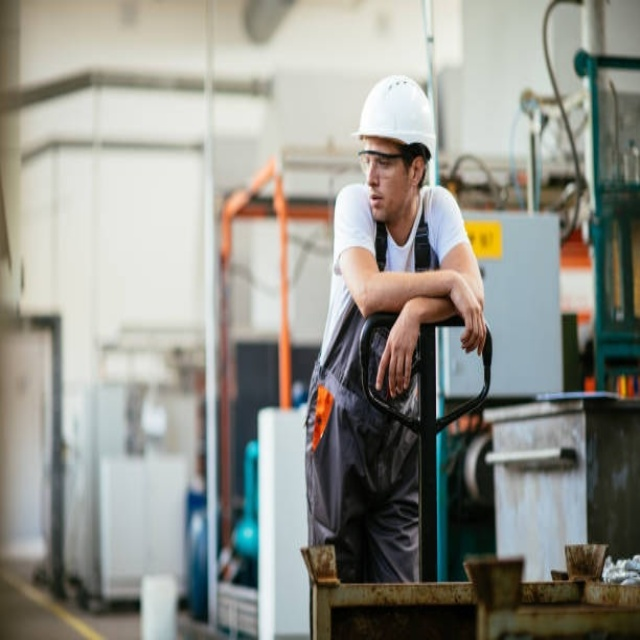Gafas: (357, 149, 409, 179)
Sin_guantes: (375, 309, 421, 397), (453, 292, 487, 358)
Sin_mascara: (368, 188, 388, 223)
